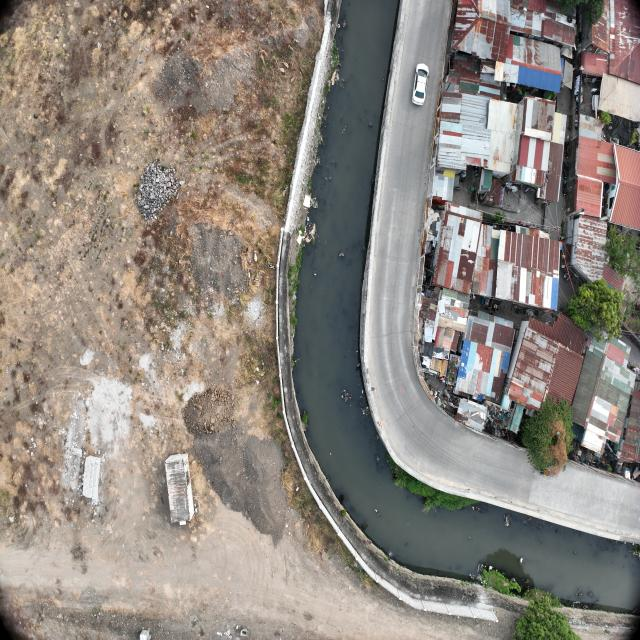Tree: (521, 392, 577, 476), (568, 276, 624, 347), (513, 595, 584, 640), (560, 0, 606, 28)
